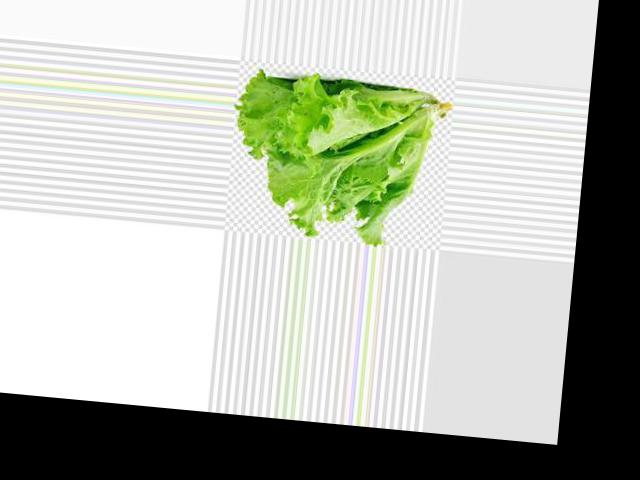lettuce: (251, 53, 404, 229)
